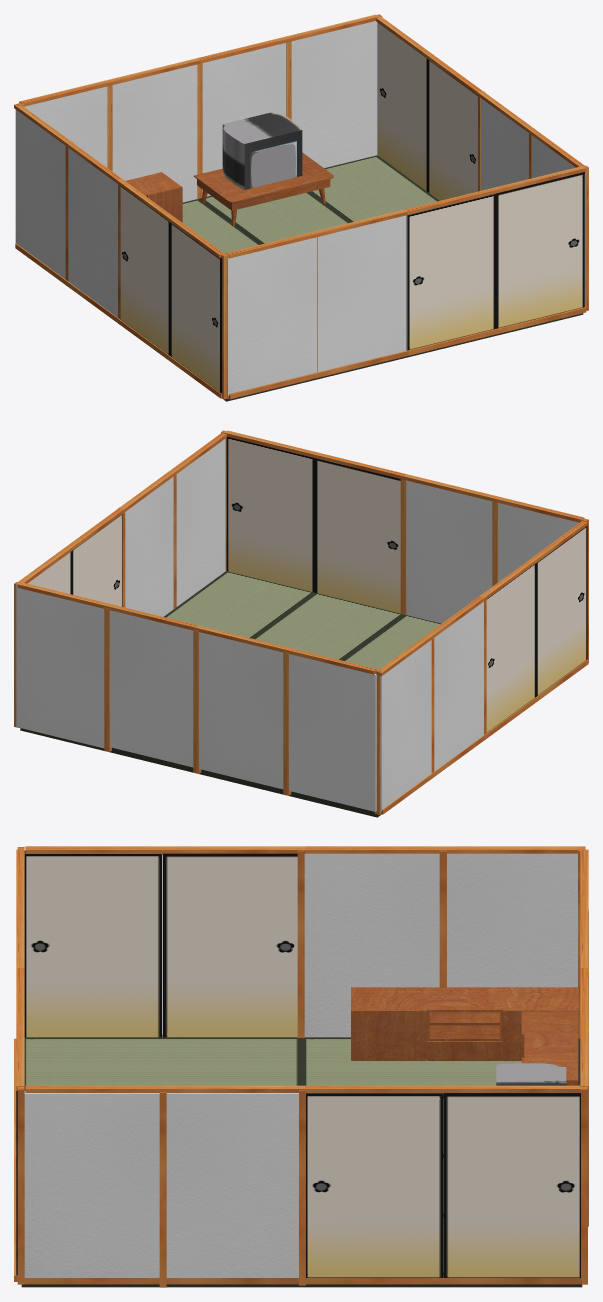
The model's file is stage.fbx.
3 renders of one model, top to bottom at view 1: azimuth 30°, elevation 25°; view 2: azimuth 150°, elevation 25°; view 3: azimuth 270°, elevation 25°, orthographic. The views are drawn at different scales.
Parts seen in each view (by area): view 1: Fusuma006, Fusuma007, Fusuma004, Fusuma005, Fusuma001, Fusuma003, Fusuma010, Fusuma011, Fusuma009, Fusuma013, Fusuma008, Fusuma (+27 smaller); view 2: Fusuma001, Fusuma002, Fusuma005, Fusuma003, Fusuma004, Fusuma, Fusuma007, Fusuma009, Fusuma010, Fusuma008, Fusuma011, Fusuma014 (+25 smaller); view 3: Fusuma010, Fusuma012, Fusuma013, Fusuma014, Fusuma011, Fusuma015, Fusuma008, Fusuma009, Cube_002, Tatami036, Tatami039, Cube_001 (+20 smaller).
Boxes of the visible parts, x1=… form: Fusuma006: x1=227, y1=237, x2=316, y2=395; Fusuma007: x1=317, y1=215, x2=406, y2=372; Fusuma004: x1=406, y1=193, x2=495, y2=350; Fusuma005: x1=496, y1=172, x2=584, y2=328; Fusuma001: x1=291, y1=21, x2=377, y2=167; Fusuma003: x1=112, y1=64, x2=197, y2=202; Fusuma010: x1=170, y1=223, x2=221, y2=393; Fusuma011: x1=120, y1=186, x2=170, y2=355; Fusuma009: x1=15, y1=109, x2=65, y2=279; Fusuma013: x1=377, y1=23, x2=427, y2=191; Fusuma008: x1=68, y1=148, x2=117, y2=317; Fusuma: x1=202, y1=43, x2=286, y2=196; Fusuma001: x1=16, y1=584, x2=104, y2=748; Fusuma002: x1=289, y1=654, x2=376, y2=811; Fusuma005: x1=226, y1=436, x2=314, y2=592; Fusuma003: x1=199, y1=632, x2=283, y2=789; Fusuma004: x1=315, y1=458, x2=400, y2=613; Fusuma: x1=110, y1=610, x2=193, y2=767; Fusuma007: x1=406, y1=480, x2=492, y2=623; Fusuma009: x1=380, y1=640, x2=431, y2=811; Fusuma010: x1=536, y1=524, x2=587, y2=696; Fusuma008: x1=434, y1=601, x2=483, y2=771; Fusuma011: x1=486, y1=563, x2=535, y2=732; Fusuma014: x1=176, y1=438, x2=225, y2=606; Fusuma010: x1=24, y1=851, x2=162, y2=1037; Fusuma012: x1=306, y1=1093, x2=443, y2=1277; Fusuma013: x1=443, y1=1093, x2=580, y2=1277; Fusuma014: x1=24, y1=1091, x2=159, y2=1277; Fusuma011: x1=163, y1=853, x2=297, y2=1037; Fusuma015: x1=166, y1=1093, x2=298, y2=1277; Fusuma008: x1=304, y1=853, x2=439, y2=1037; Fusuma009: x1=447, y1=853, x2=577, y2=987; Cube_002: x1=351, y1=987, x2=578, y2=1060; Tatami036: x1=24, y1=1037, x2=301, y2=1090; Tatami039: x1=302, y1=1037, x2=580, y2=1096; Cube_001: x1=521, y1=1011, x2=578, y2=1085.
Bounding box in the file's own units: 324 × 125 × 323.
